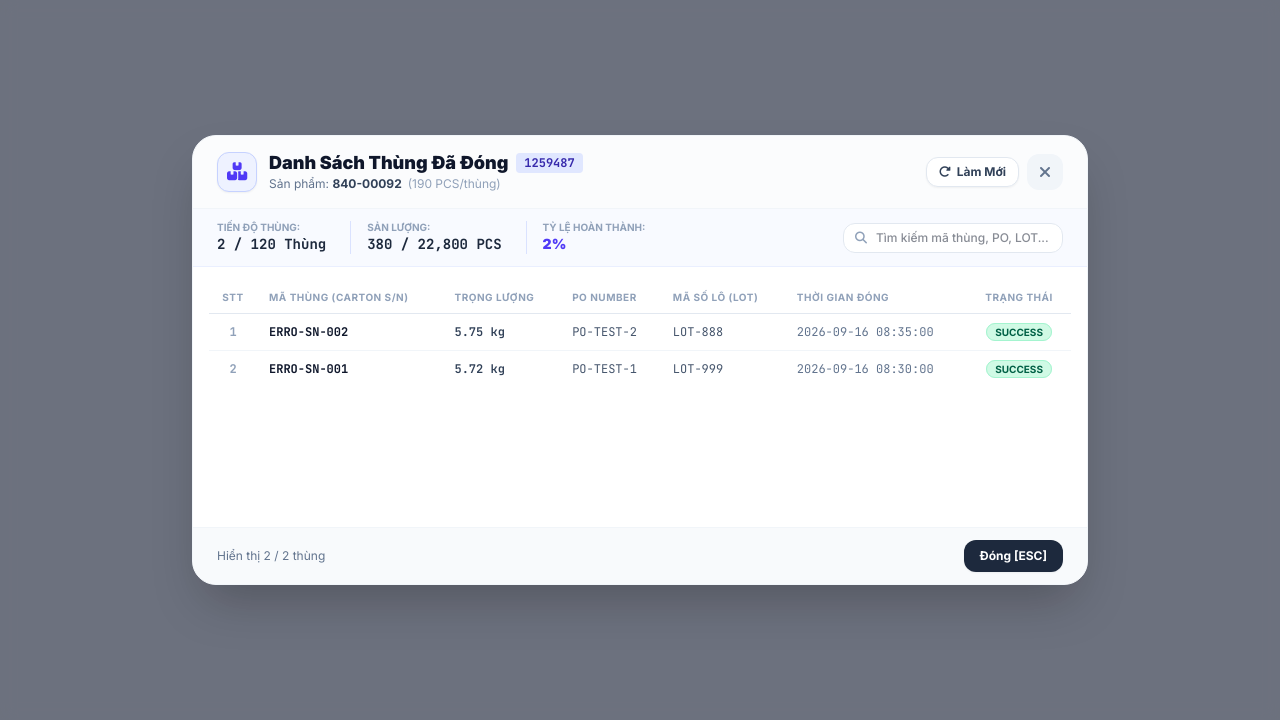
Scenario: ErroJobOrderCartonsModal › filters cartons by search keyword
This screenshot has width=1280, height=720.
Type "002" into the field with placeholder "Tìm kiếm mã thùng, PO, LOT..." at [953, 238], box [843,223,1063,253]
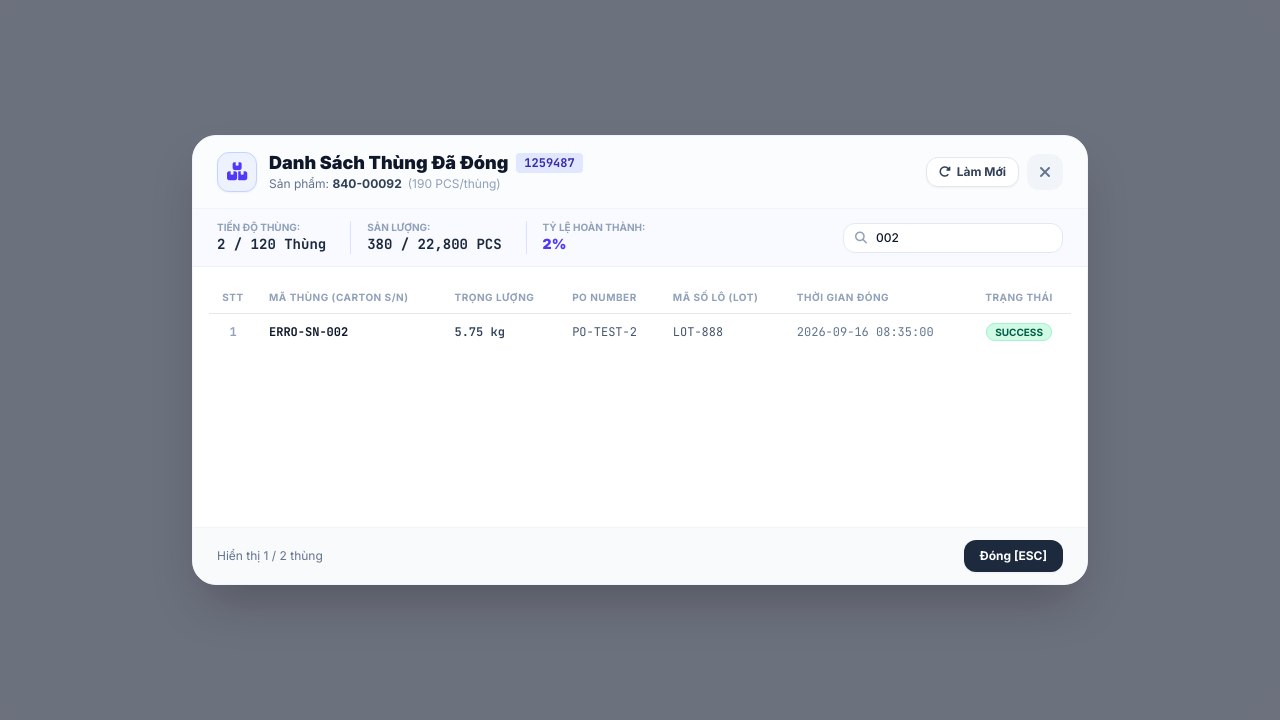
Expected: the text "ERRO-SN-002" is shown, [257,313,442,350]
Expected: the text "ERRO-SN-001" is gone
